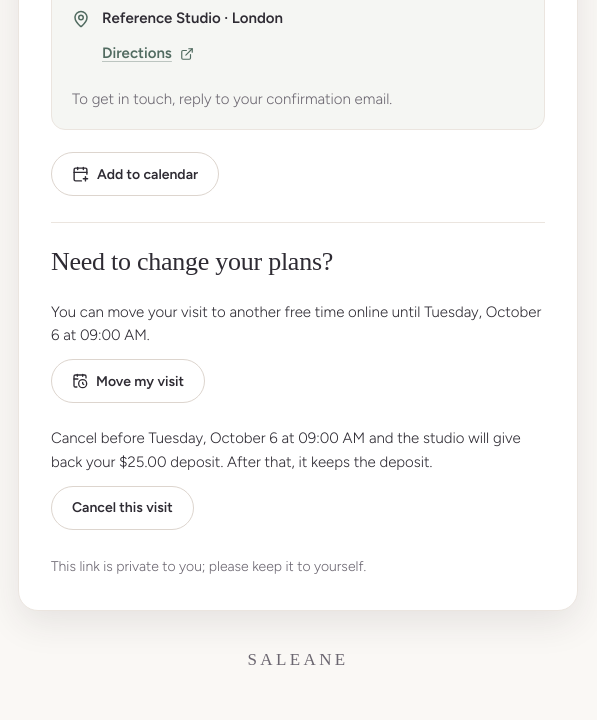
Scenario: reads dates with the weekday and times on a 12-hour clock for a studio in the US
(page scrolled)
Expected: the text "online until Tuesday, October 6 at 09:00 AM" is shown, [51,301,545,347]
Click the button "Move my visit" at (128, 381), box [51,359,205,403]
(page scrolled)
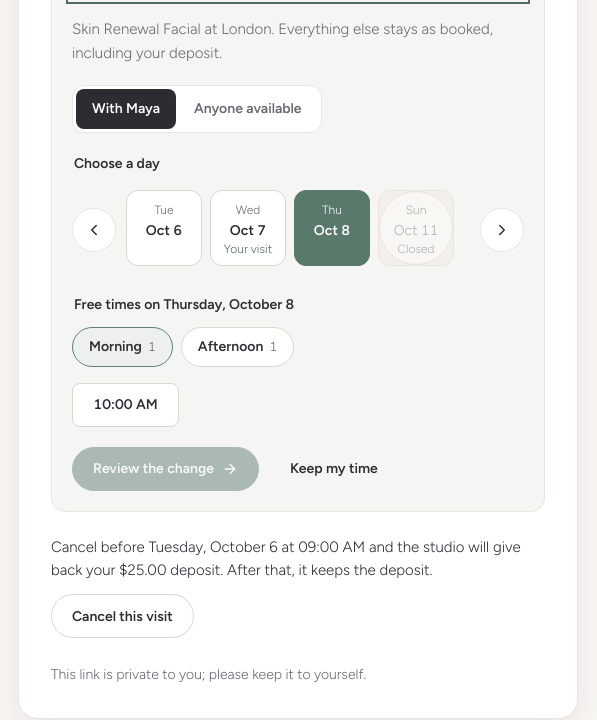
Now the radio button labelled "10:00 AM" is shown, box [72,383,179,427]
Now the radio button labelled "Thu Oct 8" is checked, box [294,190,370,266]
Now the element "Free times on Thursday, October 8" is shown, box [72,296,294,427]
